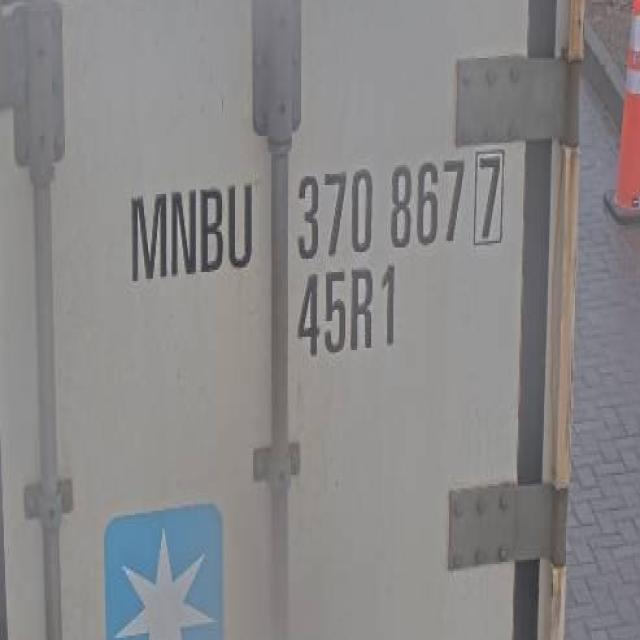dv: (472, 144, 508, 253)
owner: (121, 172, 255, 287)
serial: (296, 143, 464, 263)
size: (293, 262, 408, 366)
